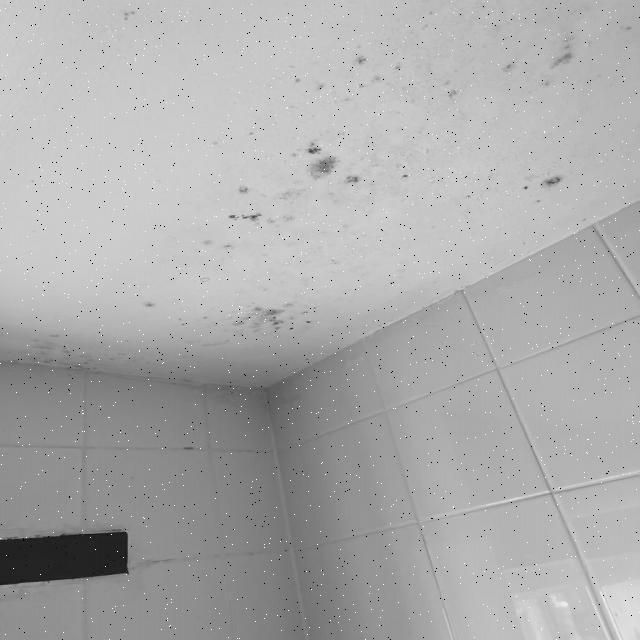stain marks: (284, 49, 492, 107), (282, 130, 370, 202), (497, 22, 577, 100), (9, 333, 124, 381), (198, 299, 310, 348), (217, 180, 277, 233), (512, 172, 590, 212), (116, 298, 196, 334), (194, 232, 246, 258)
